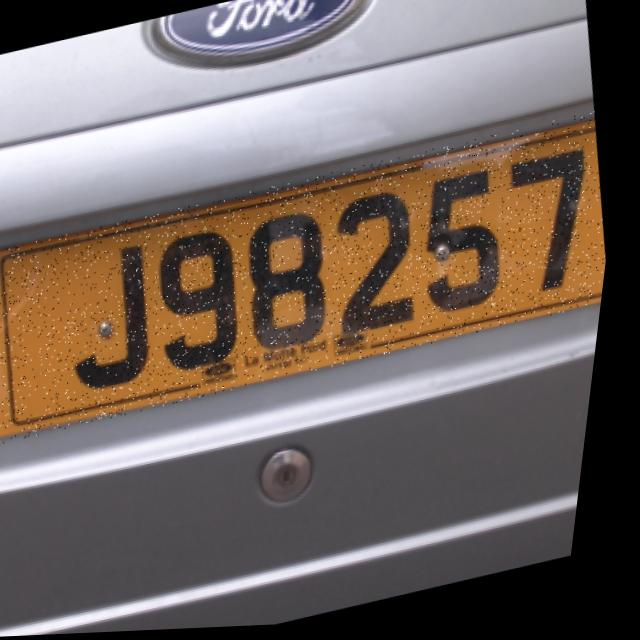license_plate: (0, 116, 627, 453)
